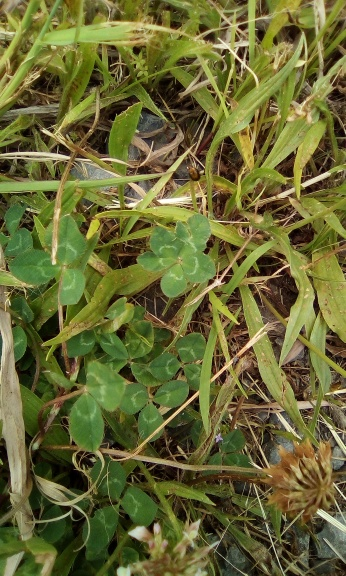4leaf: (135, 211, 218, 300)
